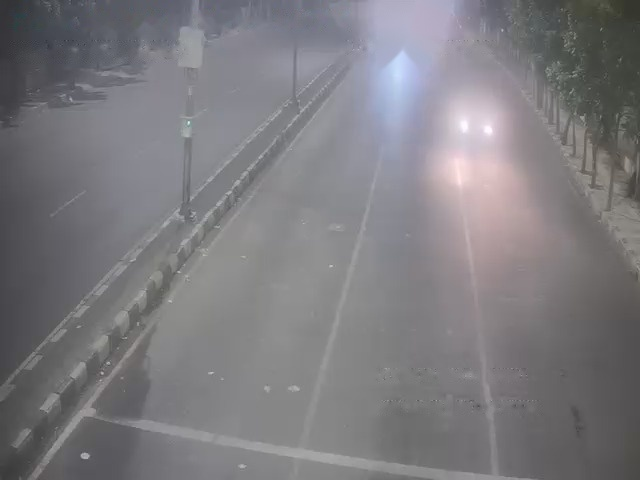Motor: (481, 117, 496, 141), (458, 116, 472, 136)
